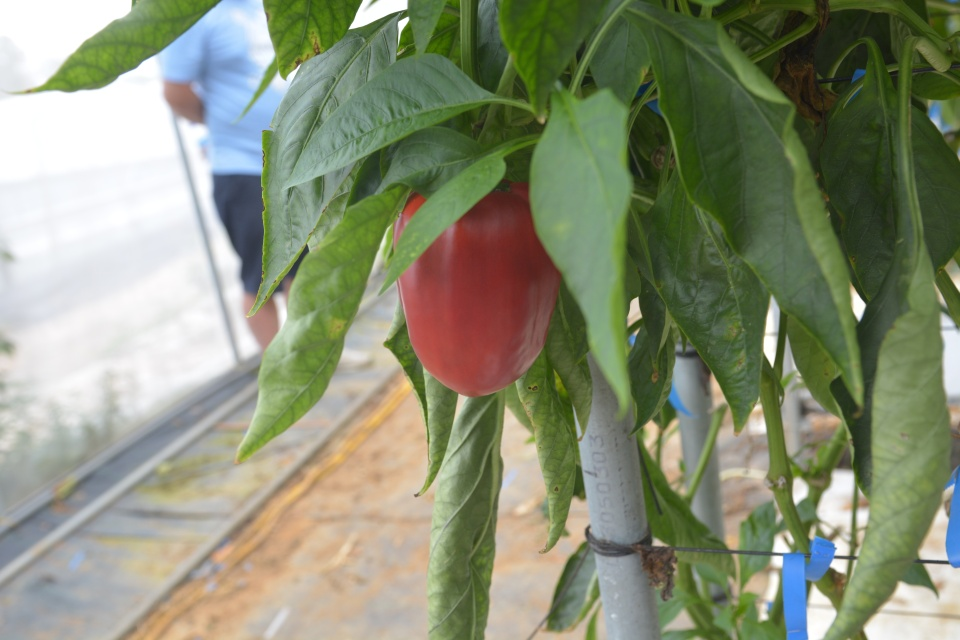fruit: (394, 178, 560, 399)
